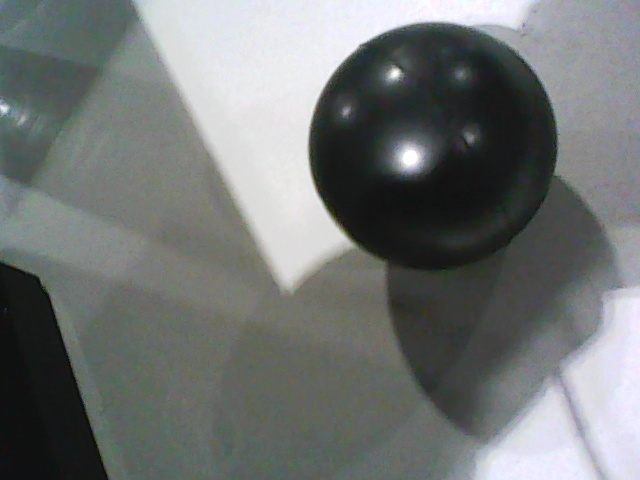ball: (309, 22, 557, 270)
